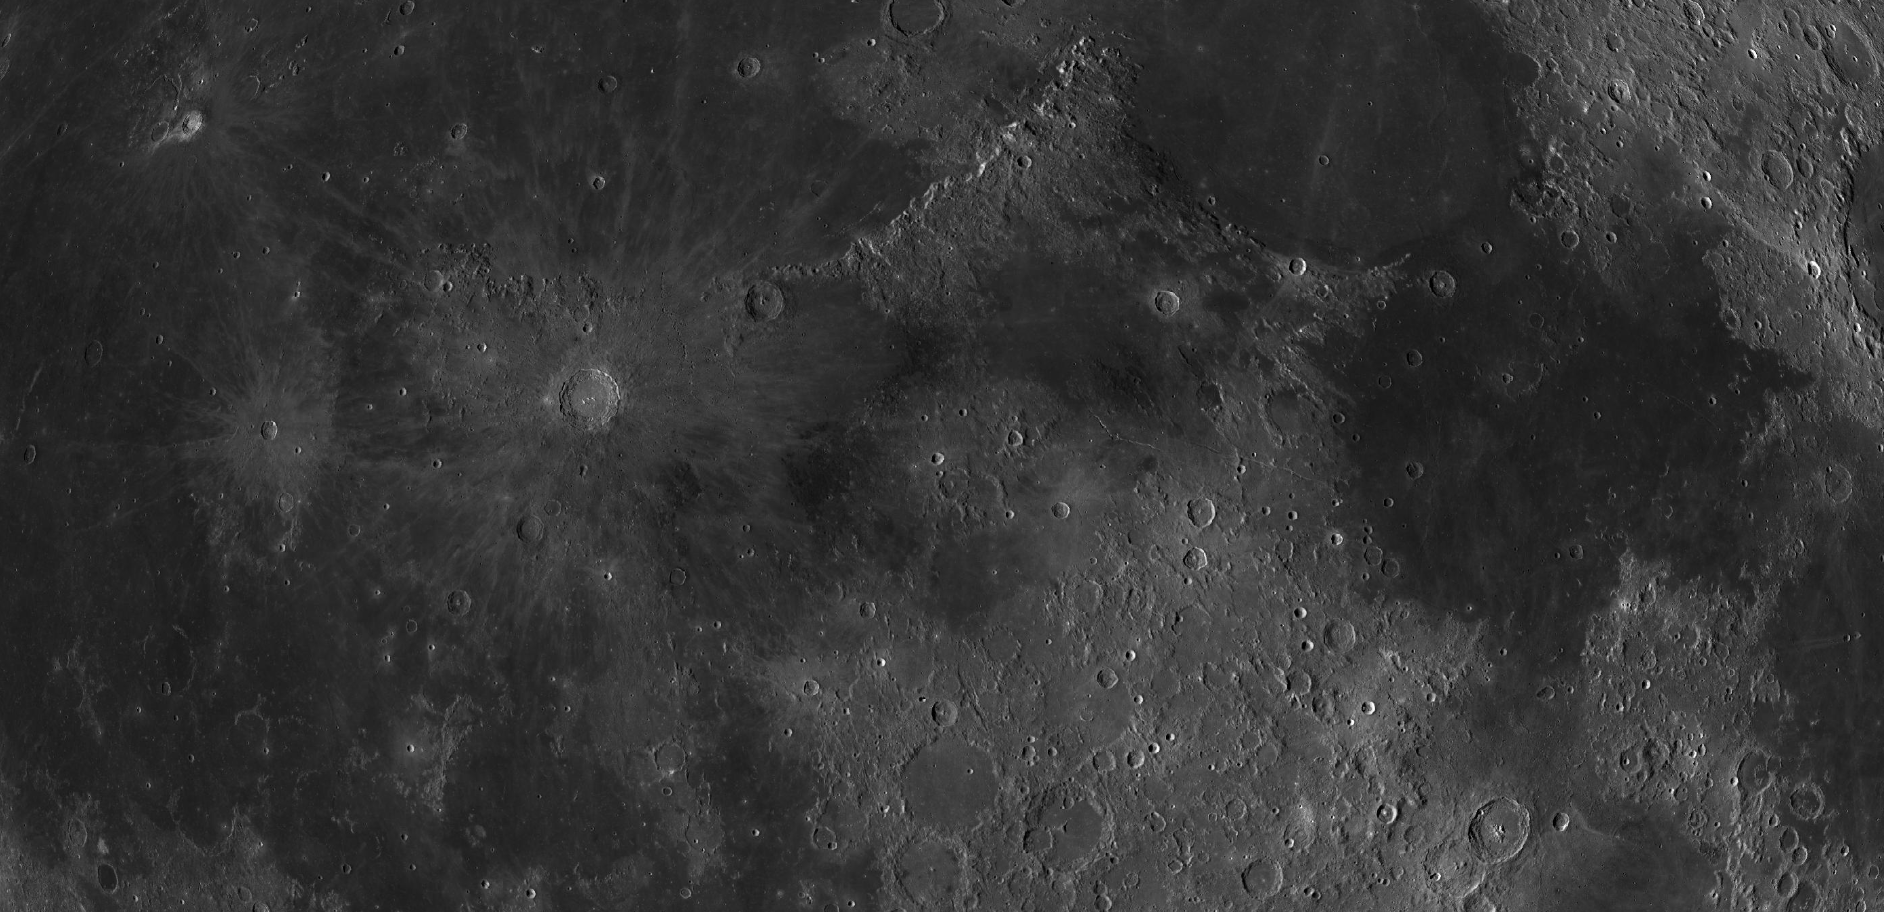crater: (138, 309, 371, 588), (453, 299, 731, 497), (882, 725, 1020, 844), (135, 93, 235, 173), (1797, 436, 1877, 537), (1460, 783, 1542, 874), (1742, 117, 1799, 217), (564, 54, 650, 114), (728, 267, 803, 336), (1135, 274, 1202, 328), (1232, 851, 1290, 904), (65, 322, 114, 385), (431, 578, 490, 628), (76, 856, 138, 900), (1316, 610, 1365, 666), (638, 729, 691, 780), (1171, 487, 1226, 536), (723, 40, 773, 93), (1421, 258, 1469, 310), (501, 509, 550, 559), (1394, 332, 1436, 385), (1084, 655, 1131, 702), (584, 154, 627, 204), (657, 554, 699, 598), (1399, 448, 1439, 493), (1592, 24, 1636, 65), (1042, 493, 1083, 526), (1473, 230, 1506, 266), (1308, 141, 1342, 174), (1369, 799, 1405, 829), (472, 869, 502, 896)
